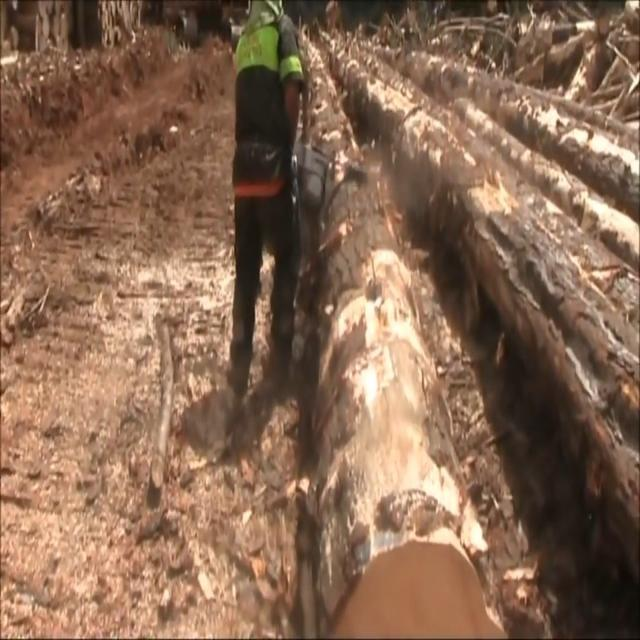Chainsaw: (282, 77, 342, 246)
